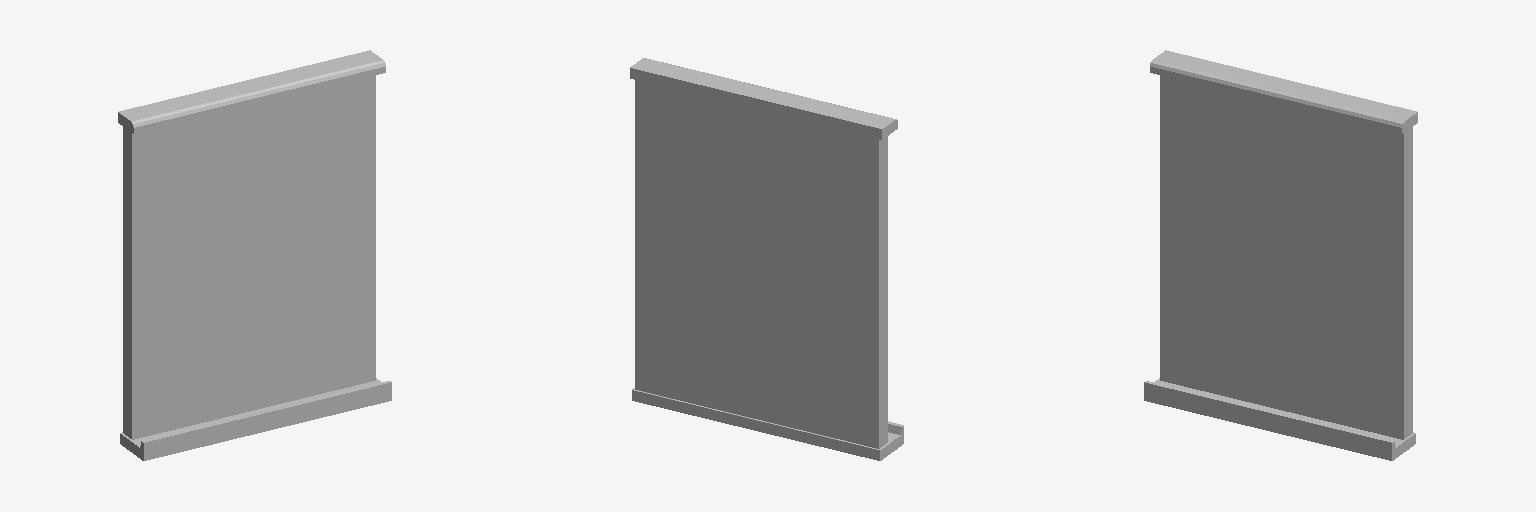
The model's file is WhiteBoard_Stand.obj.
3 views of the same model, side by side, from view 1: azimuth 30°, elevation 25°; view 2: azimuth 150°, elevation 25°; view 3: azimuth 330°, elevation 25° (orthographic).
Visible parts, largest first — view 1: WhiteBoard_Stand; view 2: WhiteBoard_Stand; view 3: WhiteBoard_Stand.
Part boxes in pixels (x1,y1,x2,y2): WhiteBoard_Stand: (118,50,391,460); WhiteBoard_Stand: (630,58,903,460); WhiteBoard_Stand: (1144,50,1417,460).
Bounding box in the file's own units: 0.8279 × 1.04 × 0.1362.